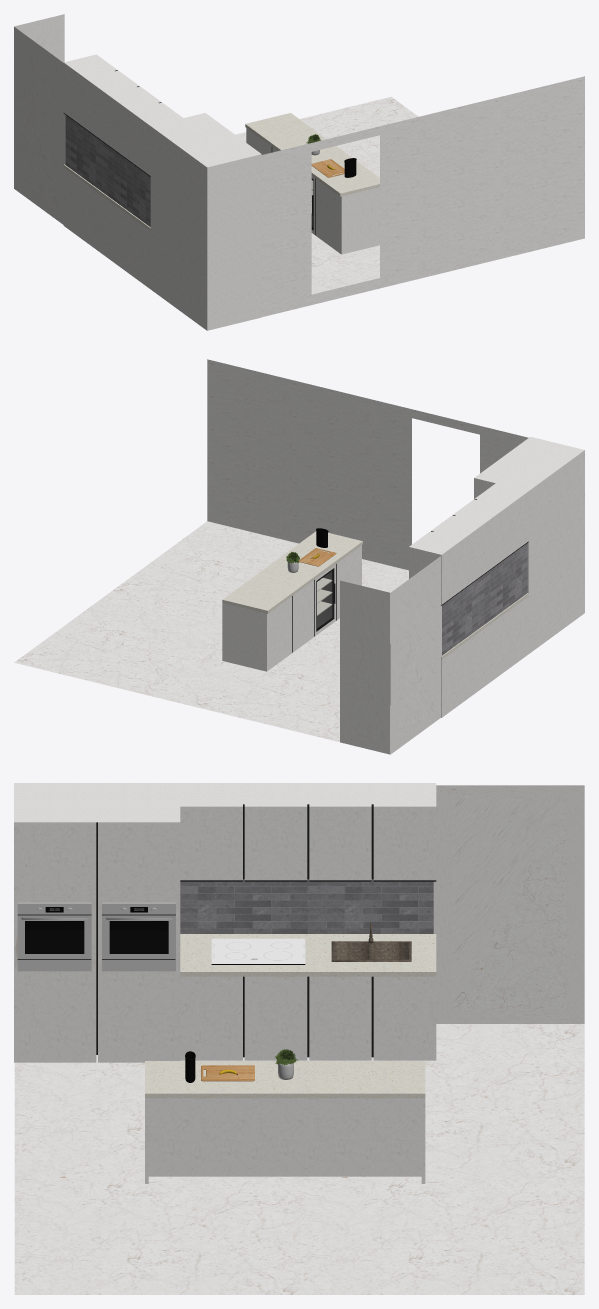
The model's file is ModifiedKitchen_v6.obj.
3 views of the same model, one above another, from view 1: azimuth 30°, elevation 25°; view 2: azimuth 150°, elevation 25°; view 3: azimuth 270°, elevation 25° (orthographic). The views are drawn at different scales.
Parts seen in each view (by area): view 1: WindowWall_Wall, Cupboards_Cupboard, WindowWall.002_Wall, Floor_Wall, Tiles_Tiles, Counters_Counter, WindowWall.001_Wall; view 2: Floor_Wall, WindowWall_Wall, Cupboards_Cupboard, WindowWall.002_Wall, WindowWall.001_Wall, Counters_Counter, Tiles_Tiles, Fridge_FridgeGlass, Trim_CupboardTrim; view 3: Floor_Wall, Cupboards_Cupboard, WindowWall.002_Wall, Counters_Counter, Tiles_Tiles, Ovens_Oven, Ovens_Hob, Hob_Material.001, Trim_CupboardTrim, Sink_Sink, Chopping_Board_Material.005.
Boxes of the visible parts, x1,y1,x2,y2 form: WindowWall_Wall: (261,76,584,316); Cupboards_Cupboard: (63,54,379,330); WindowWall.002_Wall: (14,27,65,224); Floor_Wall: (235,96,418,294); Tiles_Tiles: (65,115,150,226); Counters_Counter: (63,113,379,230); WindowWall.001_Wall: (14,14,64,62); Floor_Wall: (14,521,408,754); WindowWall_Wall: (207,359,528,570); Cupboards_Cupboard: (222,436,584,717); WindowWall.002_Wall: (390,556,441,754); WindowWall.001_Wall: (340,580,390,754); Counters_Counter: (222,531,528,659); Tiles_Tiles: (442,543,527,655); Fridge_FridgeGlass: (317,571,331,627); Trim_CupboardTrim: (292,499,528,652); Floor_Wall: (14,1024,584,1294); Cupboards_Cupboard: (14,783,436,1183); WindowWall.002_Wall: (433,785,584,1023); Counters_Counter: (145,934,436,1098); Tiles_Tiles: (180,879,433,933); Ovens_Oven: (17,902,175,971); Ovens_Hob: (17,914,175,959); Hob_Material.001: (211,938,305,963); Trim_CupboardTrim: (96,804,436,1057); Sink_Sink: (331,923,411,961); Chopping_Board_Material.005: (207,1065,248,1081).
Bounding box in the file's own units: 13.42 × 5.54 × 11.93.
